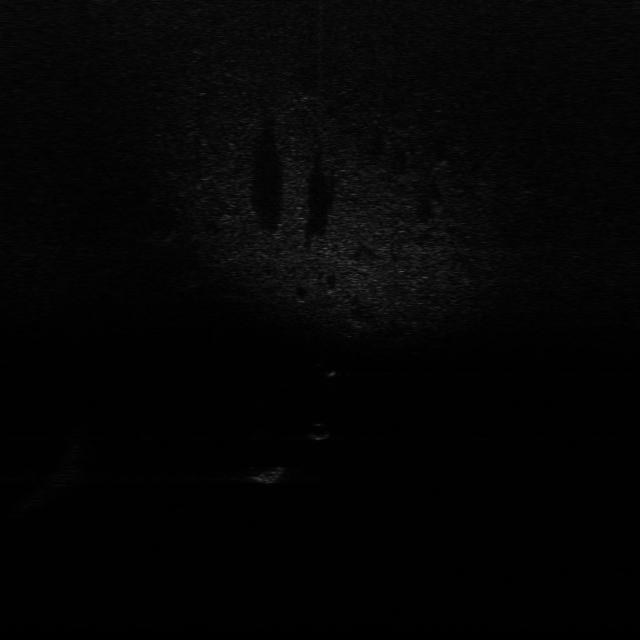ball: (303, 420, 339, 442)
human body: (313, 356, 338, 382)
square cage: (246, 458, 290, 486)
